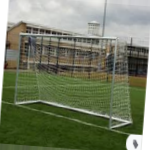goals: (14, 31, 133, 131)
